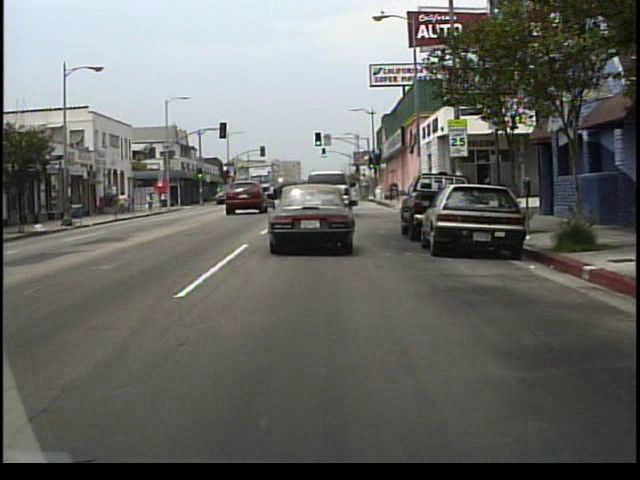person: (124, 192, 133, 216), (147, 190, 156, 210), (133, 194, 139, 215)
